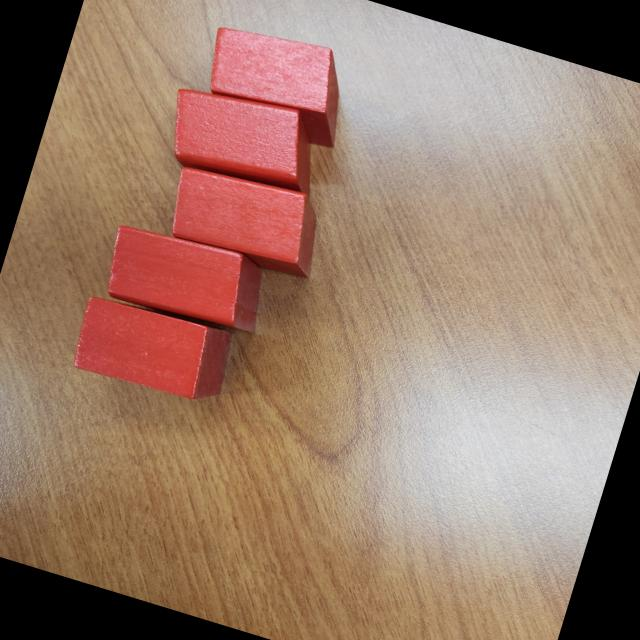red: (154, 74, 338, 206), (97, 216, 282, 342), (192, 14, 362, 151), (64, 286, 242, 415), (158, 155, 334, 283)
